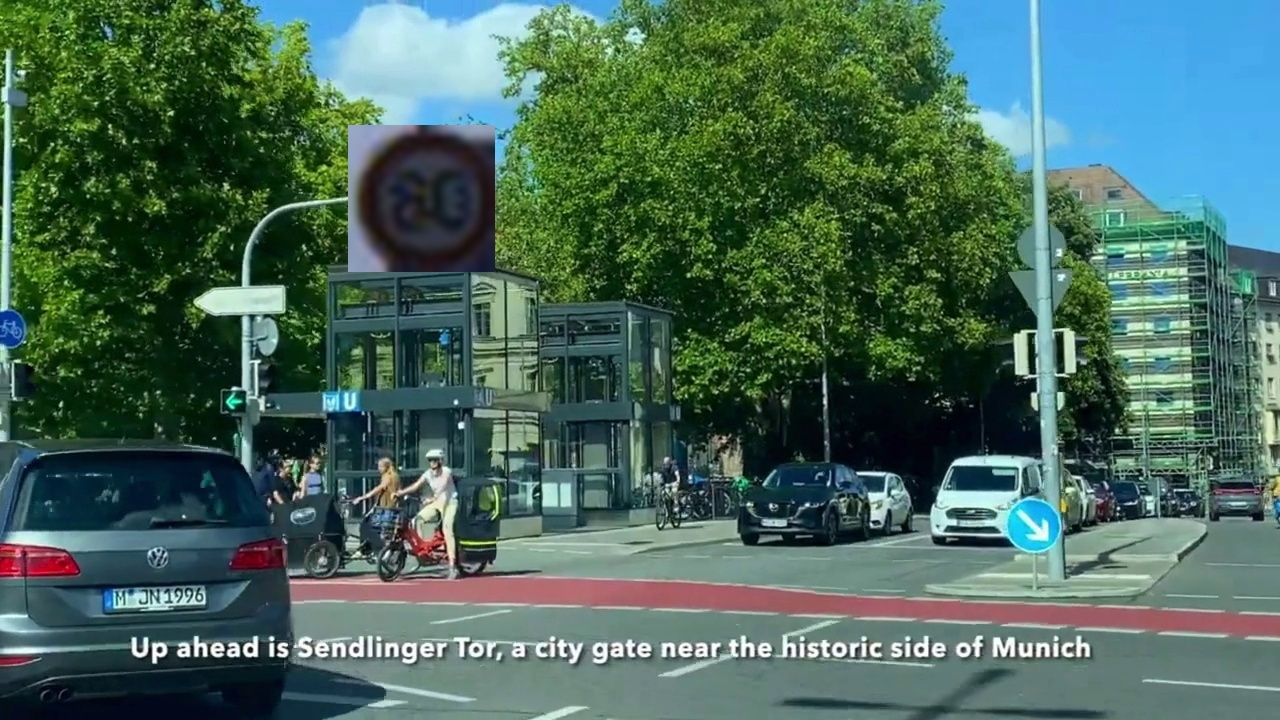Speed 80: (348, 125, 495, 272)
